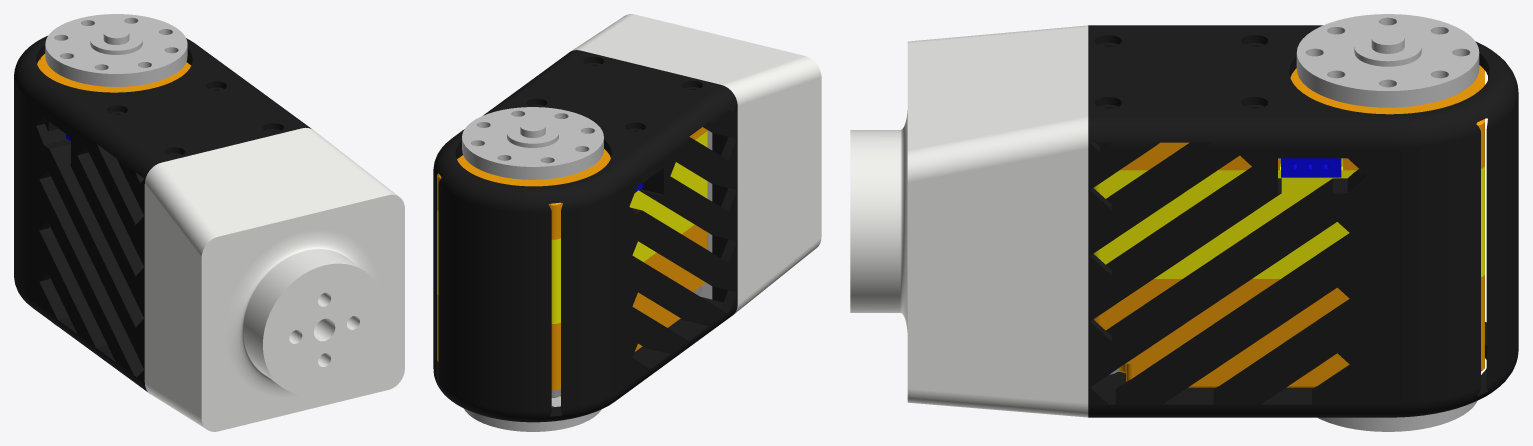
3 views of the same model, side by side, from view 1: azimuth 30°, elevation 25°; view 2: azimuth 150°, elevation 25°; view 3: azimuth 270°, elevation 25° (orthographic). The views are drawn at different scales.
Parts seen in each view (by area): view 1: Body1:14, Body2, Body1:13, Body5, Body1; view 2: Body5, Body2, Body1:14, Body1:13, Body1:4, Body1:2, Body1, Body1:12; view 3: Body2, Body1:14, Body5, Body1:13, Body1:4, Body1:2, Body1, Body1:12, Body1:11.
Boxes of the visible parts, left/top/right/bottom form: Body1:14: left=144, top=127, right=404, bottom=431; Body2: left=27, top=42, right=311, bottom=393; Body1:13: left=45, top=14, right=187, bottom=86; Body5: left=14, top=36, right=193, bottom=305; Body1: left=37, top=54, right=191, bottom=92; Body5: left=433, top=135, right=620, bottom=422; Body2: left=453, top=50, right=737, bottom=400; Body1:14: left=571, top=14, right=821, bottom=313; Body1:13: left=462, top=107, right=603, bottom=179; Body1:4: left=437, top=131, right=707, bottom=323; Body1:2: left=437, top=225, right=707, bottom=396; Body1: left=437, top=127, right=707, bottom=239; Body1:12: left=464, top=396, right=601, bottom=431; Body2: left=1088, top=25, right=1389, bottom=417; Body1:14: left=850, top=25, right=1088, bottom=417; Body5: left=1359, top=41, right=1518, bottom=417; Body1:13: left=1296, top=14, right=1479, bottom=107; Body1:4: left=1093, top=158, right=1484, bottom=278; Body1:2: left=1093, top=275, right=1484, bottom=387; Body1: left=1120, top=65, right=1484, bottom=170; Body1:12: left=1318, top=401, right=1477, bottom=431; Body1:11: left=1281, top=158, right=1341, bottom=177.
Size of the model in its own units: 49.36 by 68.3 by 109.
